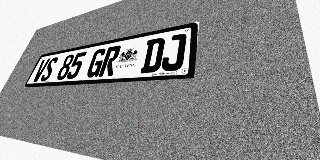5: (65, 51, 87, 79)
8: (55, 53, 76, 80)
D: (140, 37, 166, 73)
G: (85, 48, 108, 78)
J: (160, 33, 187, 72)
R: (98, 45, 122, 77)
S: (39, 57, 59, 81)
V: (31, 58, 50, 82)
